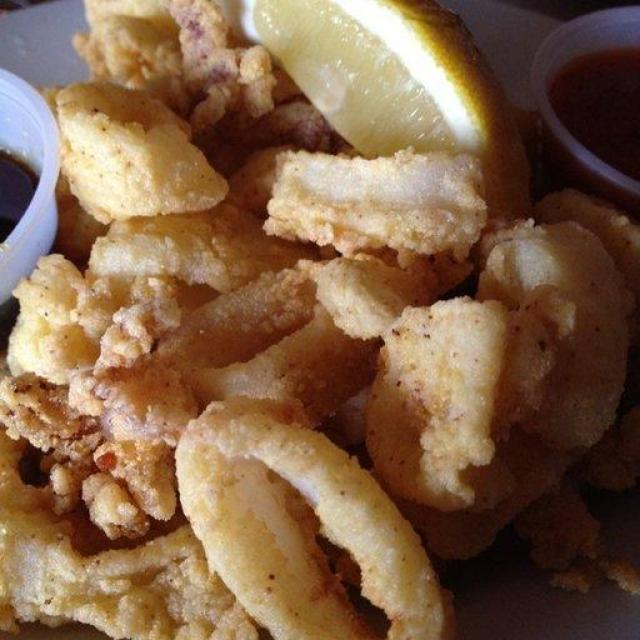food_waste: (15, 10, 579, 640)
